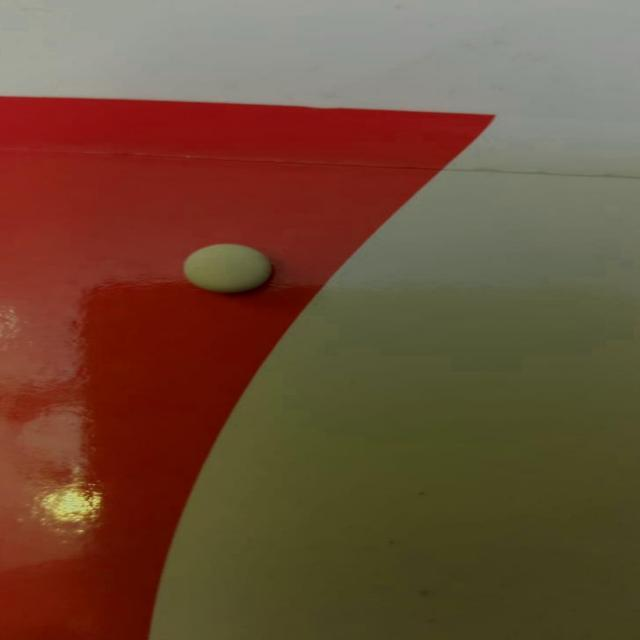pill: (180, 242, 274, 294)
